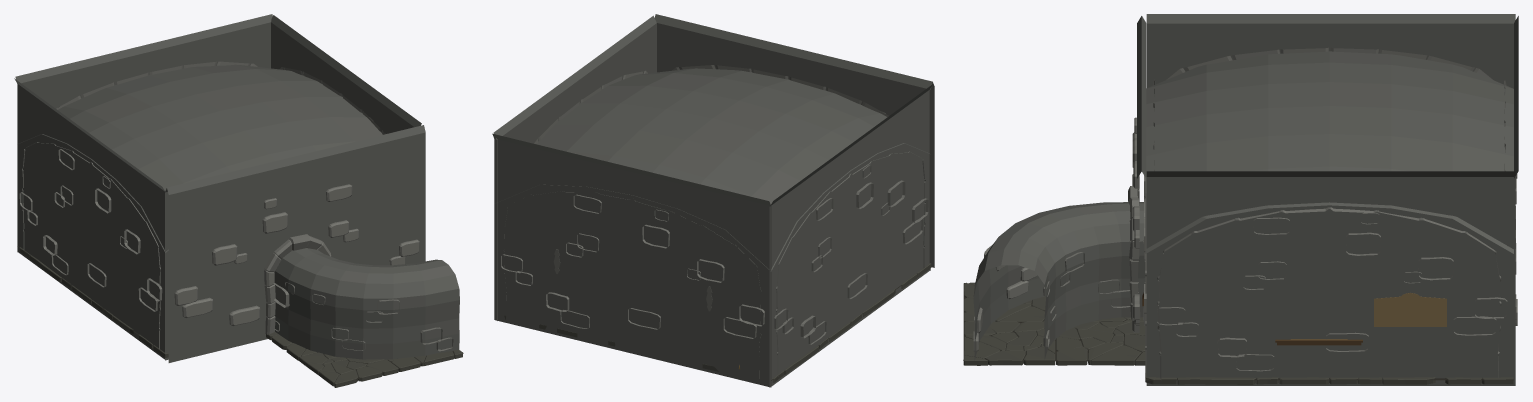
The model's file is LowPolyDungeon.glb.
3 views of the same model, side by side, from view 1: azimuth 30°, elevation 25°; view 2: azimuth 150°, elevation 25°; view 3: azimuth 270°, elevation 25° (orthographic). The views are drawn at different scales.
Parts seen in each view (by area): view 1: Dungeon_Big_Passage.001, Dungeon_Big.002, Dungeon_Big_Wall.003, Hallway_Curve_Long.001, Dungeon_Big_Wall.001, Dungeon_Big_Wall.002; view 2: Dungeon_Big_Wall.001, Dungeon_Big.002, Dungeon_Big_Wall.003, Dungeon_Big_Passage.001, Dungeon_Big_Wall.002; view 3: Dungeon_Big_Wall.002, Dungeon_Big.002, Hallway_Curve_Long.001, Dungeon_Big_Wall.003, Dungeon_Big_Passage.001, Shelf_Wall.001, Dungeon_Big_Wall.001, Desk.001.
Part boxes in pixels (x1,y1,x2,y2): Dungeon_Big_Passage.001: (165,125,425,362); Dungeon_Big.002: (17,61,385,357); Dungeon_Big_Wall.003: (14,78,165,359); Hallway_Curve_Long.001: (266,248,463,387); Dungeon_Big_Wall.001: (15,14,272,252); Dungeon_Big_Wall.002: (271,15,421,133); Dungeon_Big_Wall.001: (492,133,771,387); Dungeon_Big.002: (499,65,931,382); Dungeon_Big_Wall.003: (769,84,932,387); Dungeon_Big_Passage.001: (654,14,934,270); Dungeon_Big_Wall.002: (493,15,656,320); Dungeon_Big_Wall.002: (1146,171,1515,385); Dungeon_Big.002: (1145,47,1513,384); Hallway_Curve_Long.001: (963,202,1145,365); Dungeon_Big_Wall.003: (1146,14,1515,88); Dungeon_Big_Passage.001: (1128,16,1146,332); Shelf_Wall.001: (1374,293,1446,326); Dungeon_Big_Wall.001: (1514,16,1518,325); Desk.001: (1275,339,1362,345).
Size of the model in its own units: 8.08 by 5.18 by 12.04.
16 materials, 16 textured.
